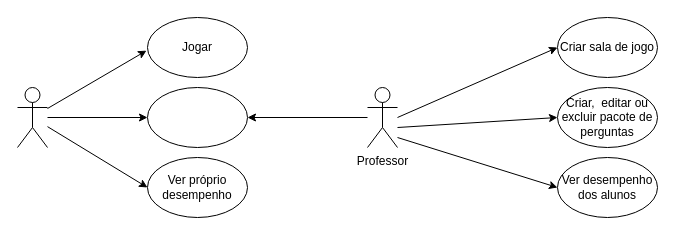
The diagram is 675 pixels wide and 235 high, and some of its shapes have lost their labels. The shapes that lost their labels are listed below. From the top down, each one's centre as x and y in pixels, then its label:
point (32, 117): Aluno
point (197, 117): Efetuar Login
